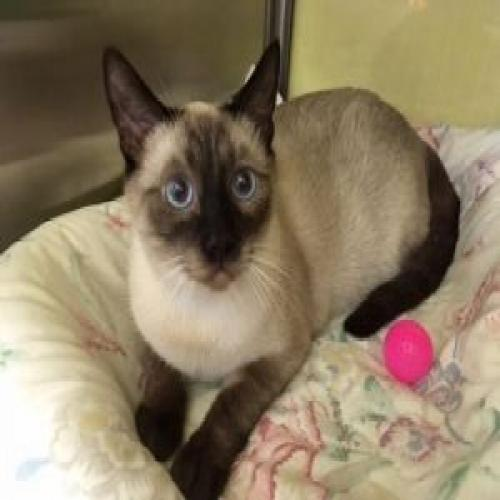siamese: (97, 23, 296, 294)
